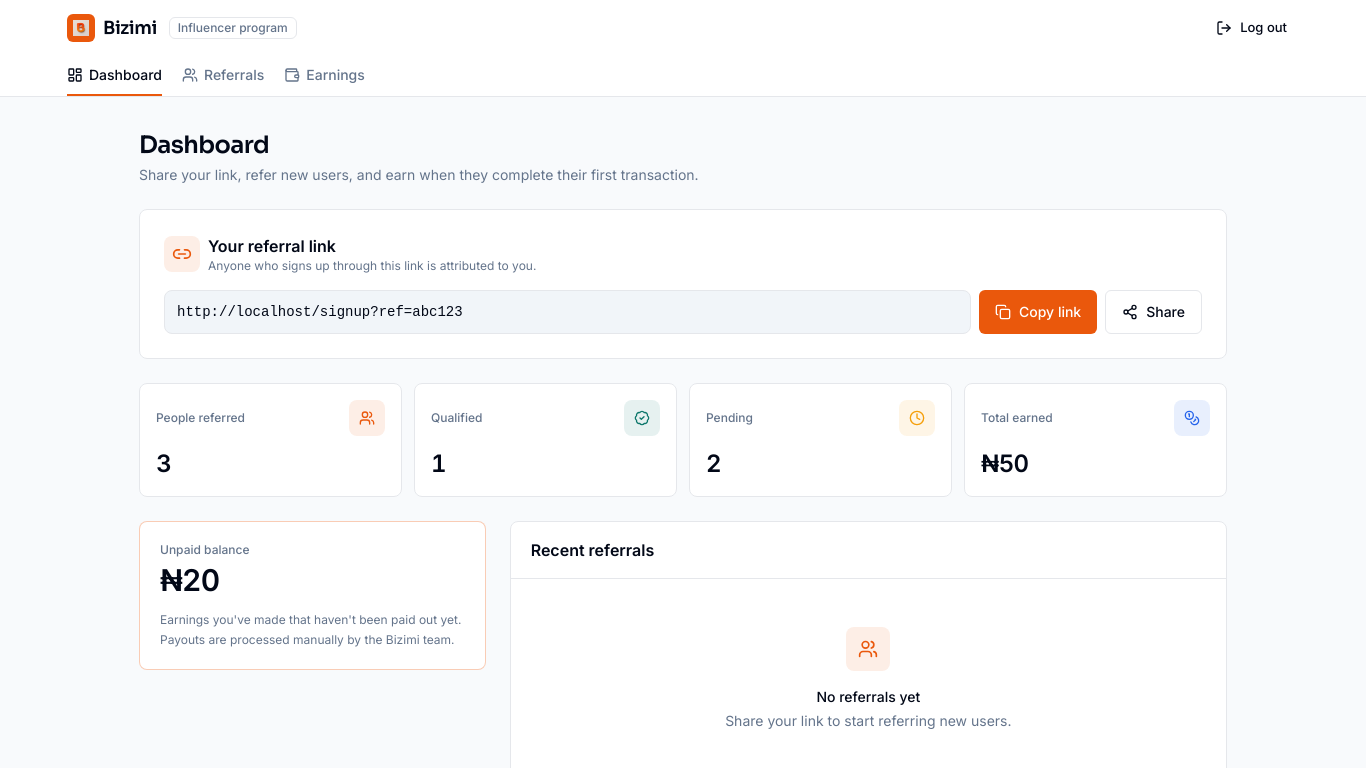
InfluencerDashboard › shows the referral link and copies it on click
Expected: the text "/signup?ref=abc123" is shown, top-left (177, 304), bottom-right (463, 320)
Click the button "Copy link": coordinates (1038, 312) top-left (979, 290), bottom-right (1097, 334)
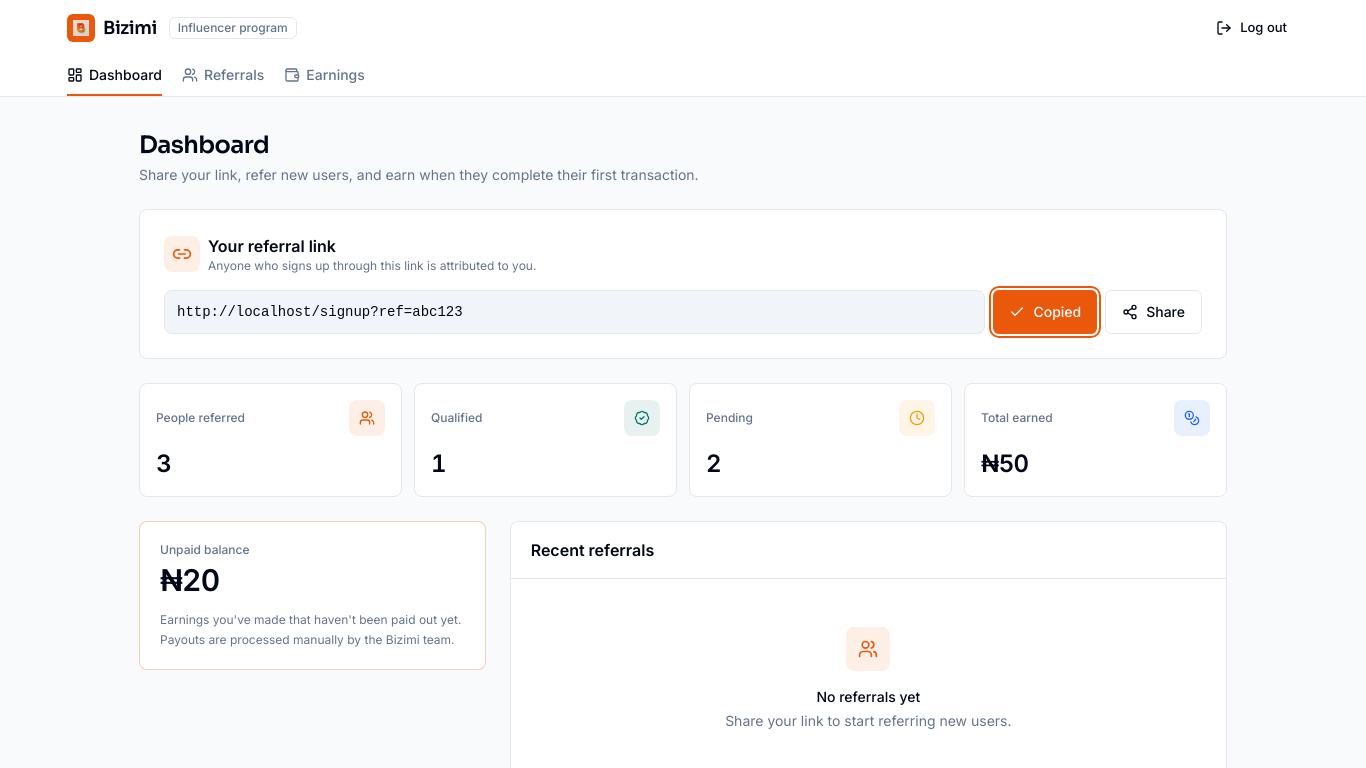
Result: the button "Copied" is shown at top-left (993, 290), bottom-right (1097, 334)
